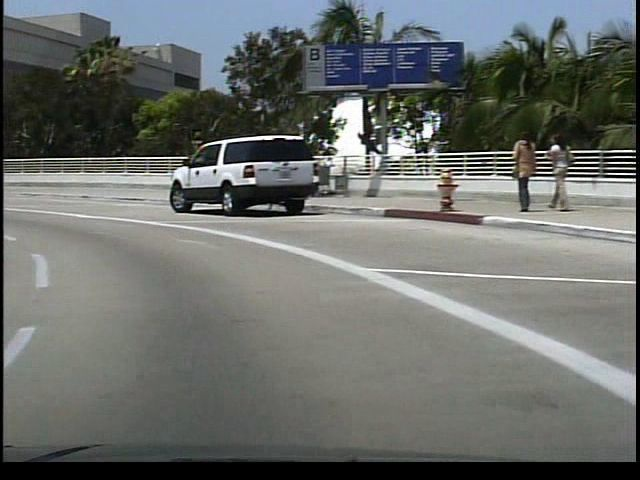person: (537, 130, 567, 213), (502, 127, 529, 217)
